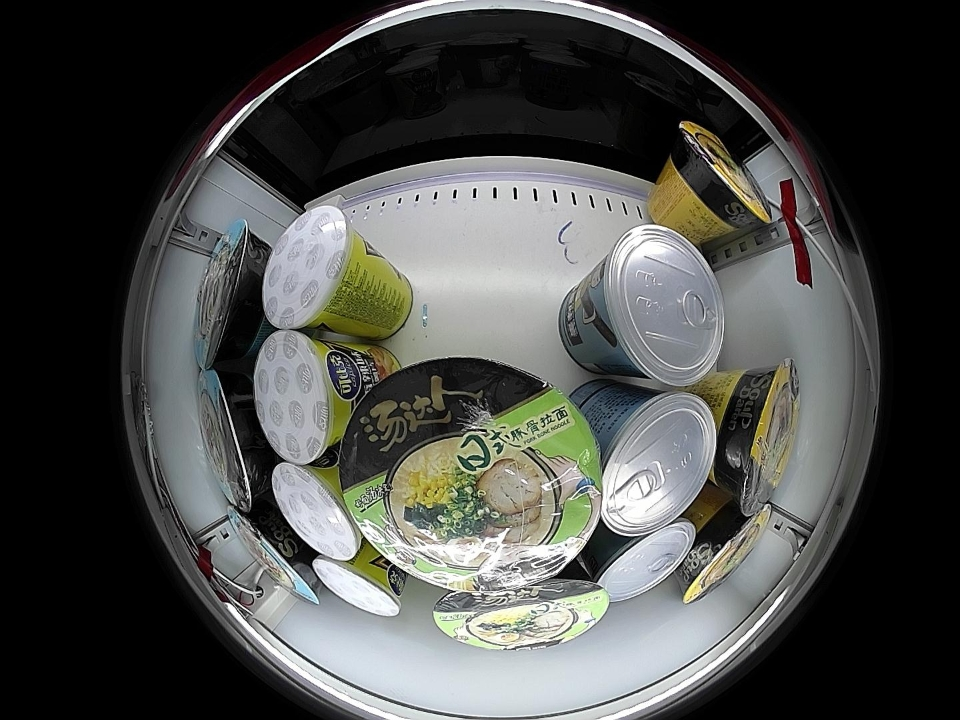haitai: (585, 223, 726, 388), (596, 388, 719, 537), (589, 518, 696, 601)
kebike: (261, 205, 368, 331), (251, 330, 351, 464), (270, 460, 365, 561), (312, 550, 405, 618)
tangdaren: (341, 357, 603, 592), (431, 573, 611, 652)
tangdaren2: (717, 358, 802, 516), (669, 120, 773, 231), (678, 501, 773, 605)
tangdaren3: (193, 220, 266, 370), (196, 368, 269, 512), (226, 503, 321, 607)
